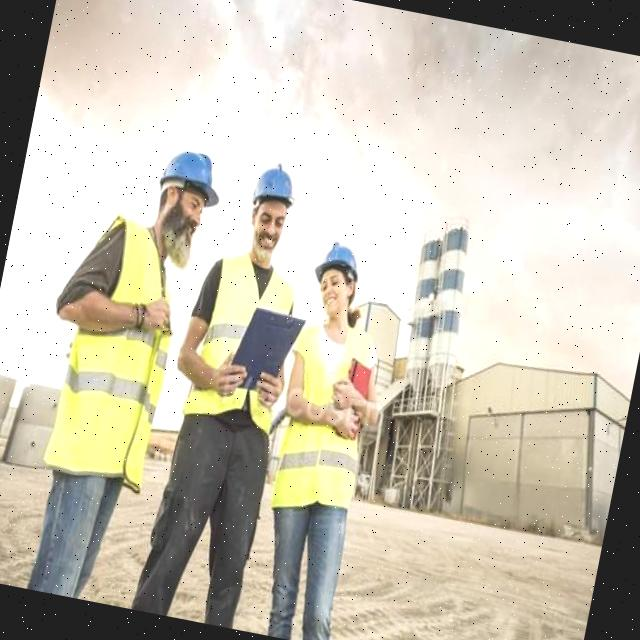vest: (48, 218, 196, 488), (270, 318, 382, 509), (185, 263, 270, 426)
